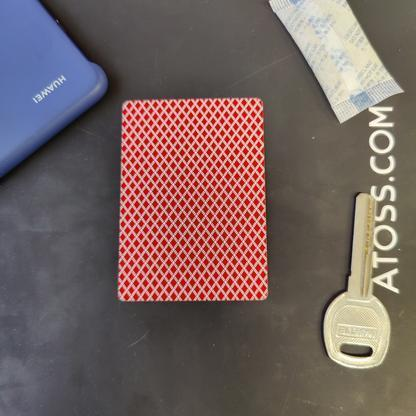card: (108, 90, 276, 305)
